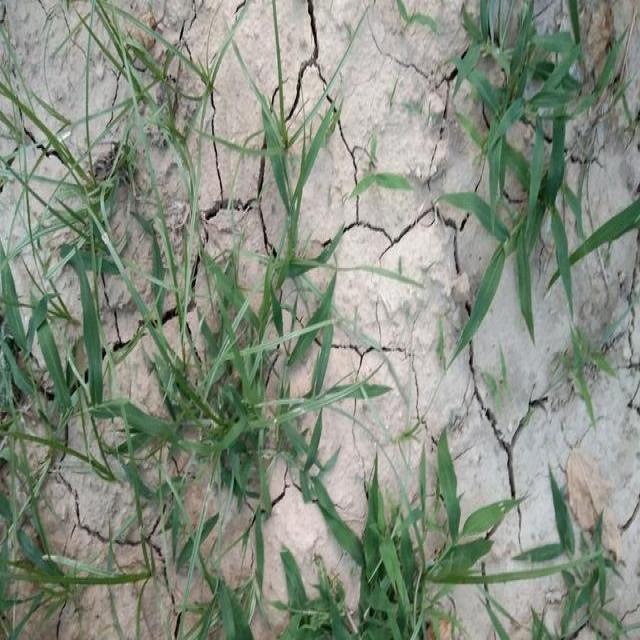weed: (90, 245, 367, 520), (463, 11, 640, 402), (3, 260, 158, 624), (278, 481, 512, 640), (34, 45, 190, 262), (222, 42, 336, 273), (528, 471, 640, 640), (358, 145, 430, 205)
